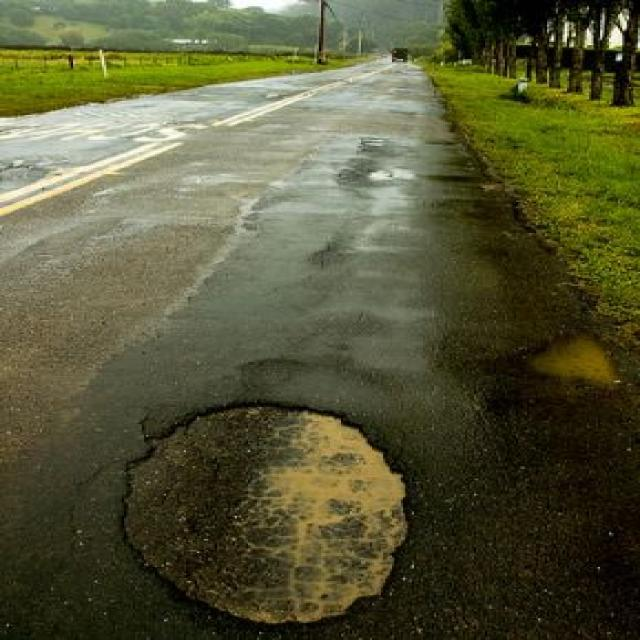pothole: (112, 393, 416, 629)
